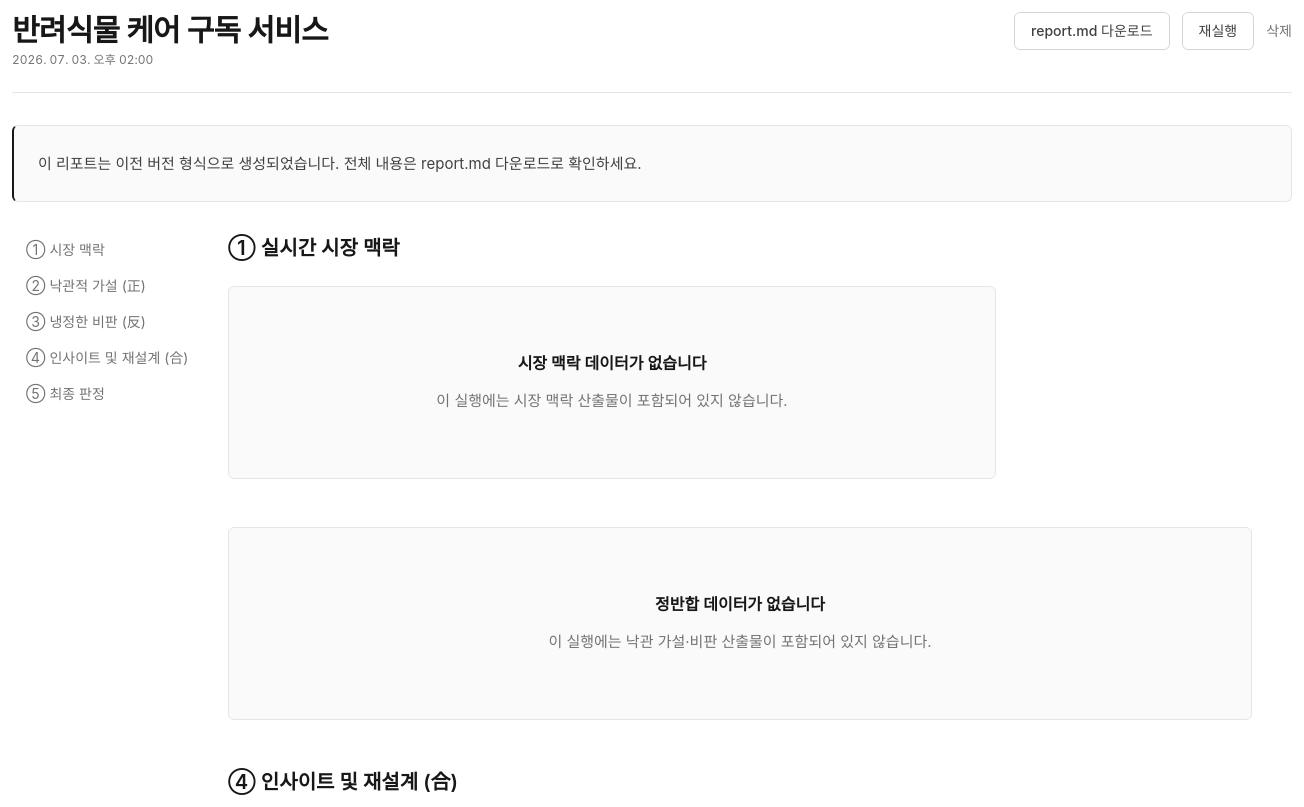
Test: RunDetailClient (분기) › 재실행이 409로 거절되면 이유를 보여주고 이동하지 않는다
This screenshot has width=1304, height=807.
Click the button "재실행": {"x": 1218, "y": 31} [1182, 12, 1254, 50]
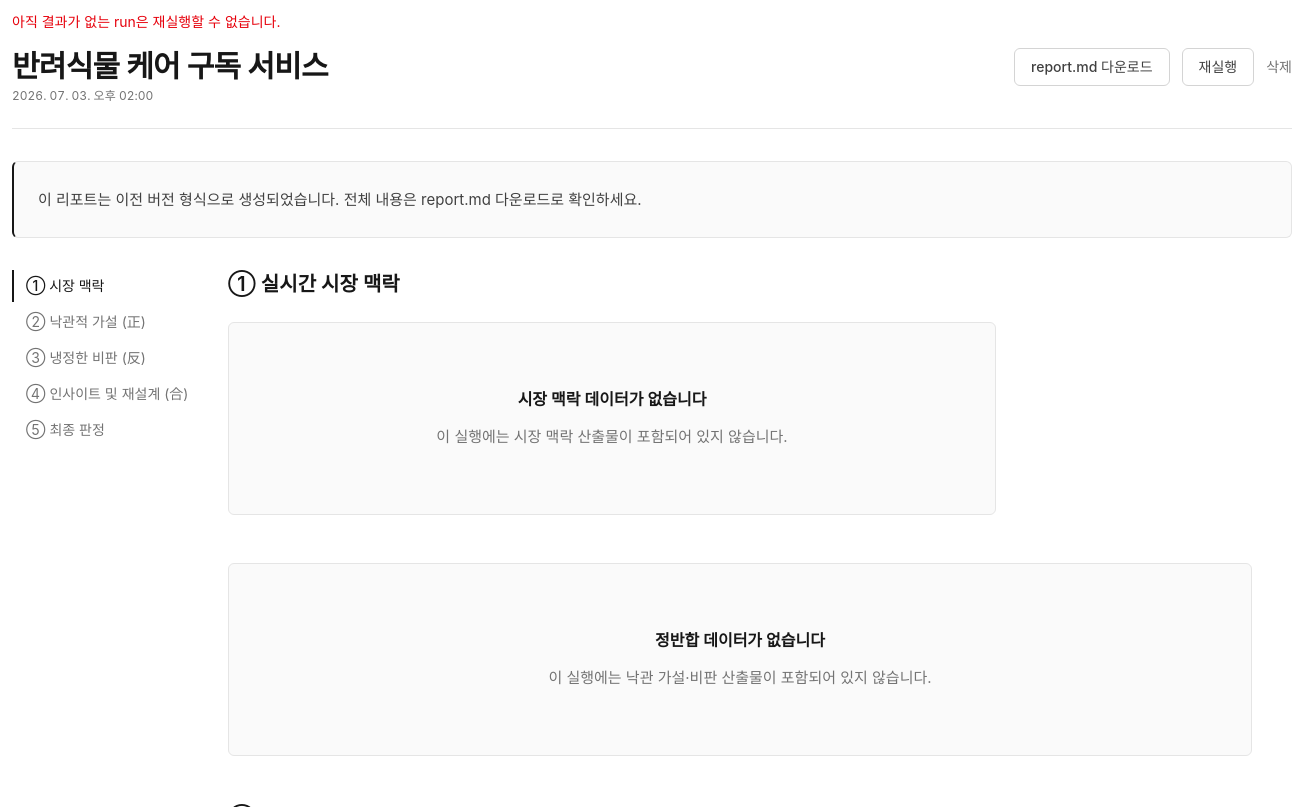
Check: the message shows "재실행할 수 없습니다", box [12, 13, 280, 30]
